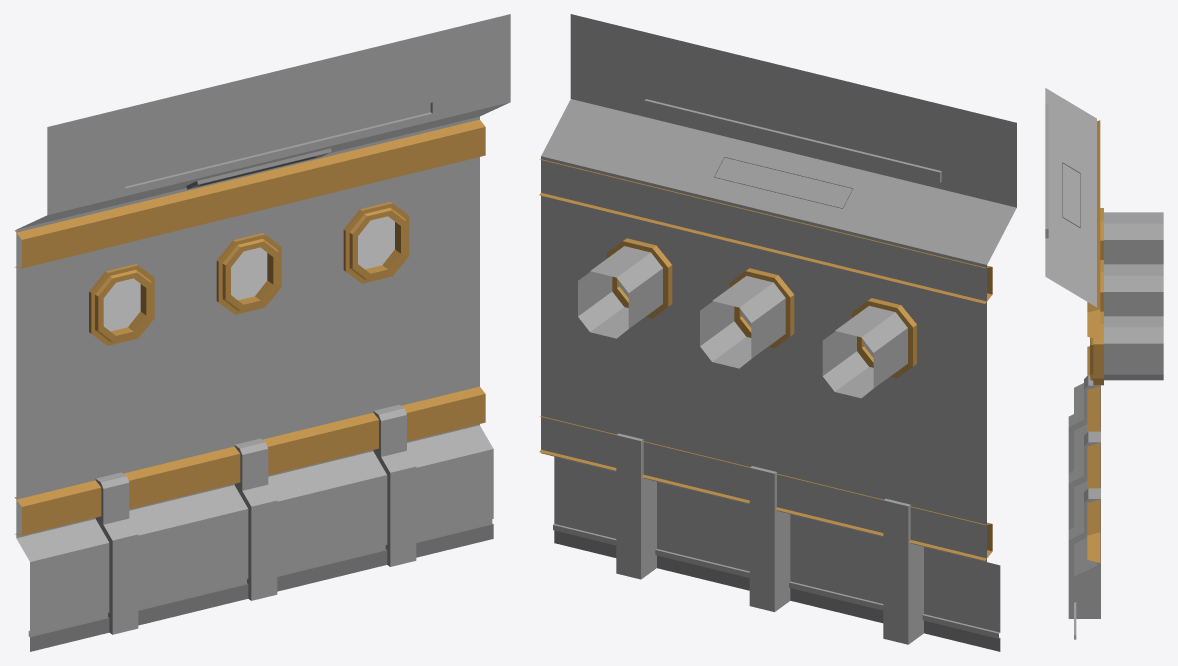
The model's file is smallwindows_wall_sidea.glb.
3 renders of one model, left to right at view 1: azimuth 30°, elevation 25°; view 2: azimuth 150°, elevation 25°; view 3: azimuth 270°, elevation 25°, orthographic. The views are drawn at different scales.
Parts seen in each view (by area): view 1: SmallWindows_Wall_SideA; view 2: SmallWindows_Wall_SideA; view 3: SmallWindows_Wall_SideA.
Boxes of the visible parts, left/top/right/bottom form: SmallWindows_Wall_SideA: left=14, top=14, right=510, bottom=651; SmallWindows_Wall_SideA: left=539, top=14, right=1016, bottom=651; SmallWindows_Wall_SideA: left=1045, top=88, right=1163, bottom=639.
Bounding box in the file's own units: 4 × 4.43 × 1.06.
